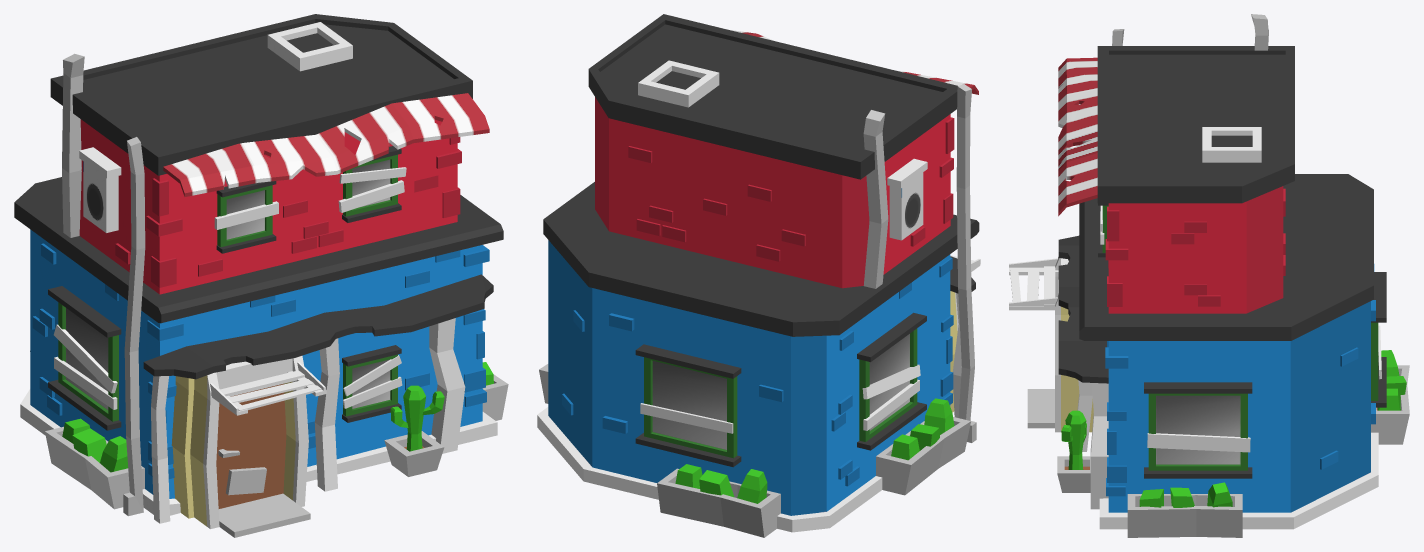
Rendered from Ghettoish House.fbx.
3 views of the same model, side by side, from view 1: azimuth 30°, elevation 25°; view 2: azimuth 150°, elevation 25°; view 3: azimuth 270°, elevation 25° (orthographic). The views are drawn at different scales.
Parts seen in each view (by area): view 1: Ghettoish House; view 2: Ghettoish House; view 3: Ghettoish House.
Boxes of the visible parts, x1=… form: Ghettoish House: x1=14, y1=14, x2=508, y2=537; Ghettoish House: x1=537, y1=14, x2=980, y2=537; Ghettoish House: x1=1009, y1=14, x2=1409, y2=537.
Bounding box in the file's own units: 3.19 × 3.06 × 3.05.
